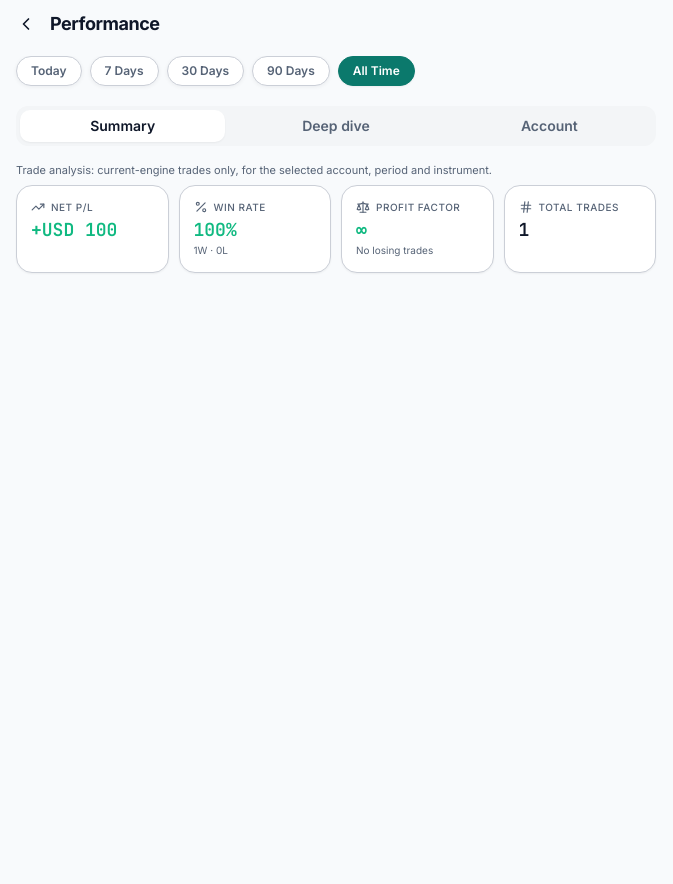
Scenario: JournalStats — Phase 7 breakdowns & safety › excludes obsolete-engine trades from performance stats without deleting them
Expected: the text "+USD 100" is shown, [31,218,117,240]
Click the button "Account": (549, 126) [447,110,652,142]
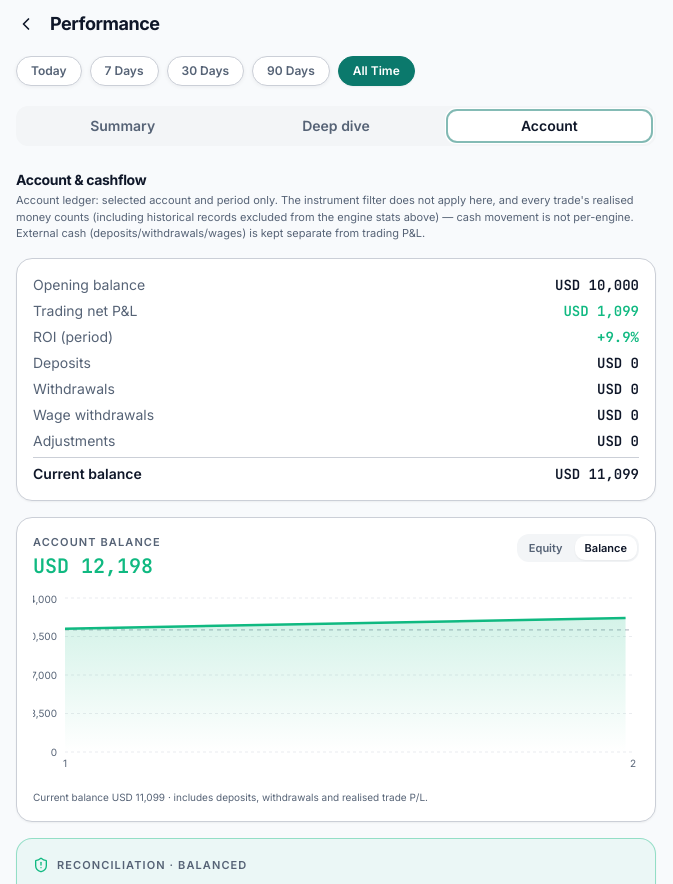
Expected: the text "Trading net P&L" reads "Trading net P&L USD 1,099", [563,302,639,320]
